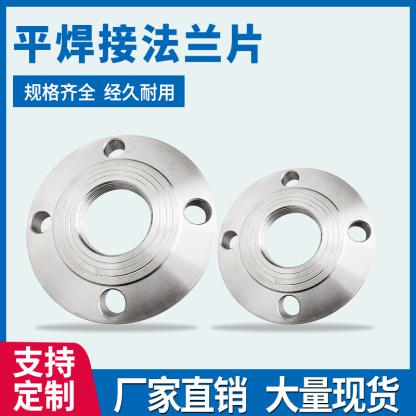FOD: (23, 131, 220, 322), (219, 161, 380, 326)
